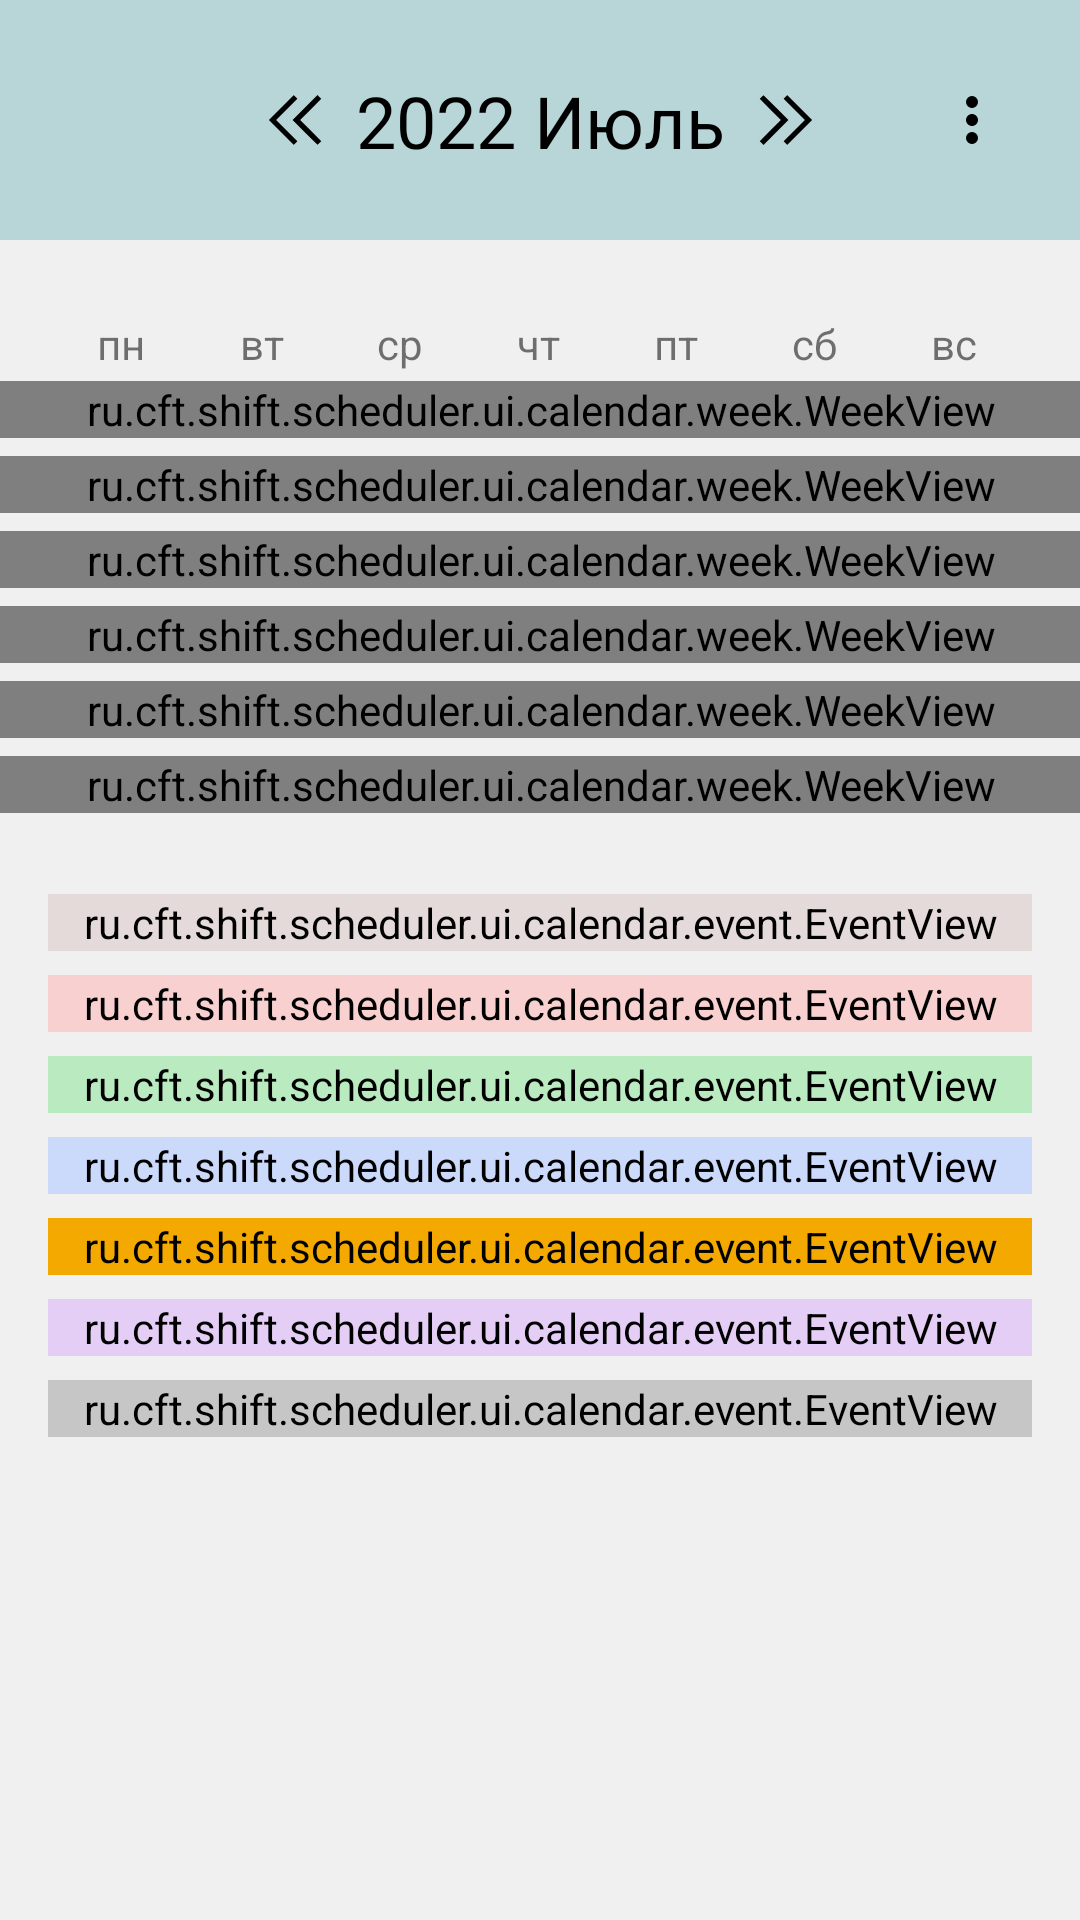

Locate icon controls on the screen. Image size 1080×1920, boxes as (x1, y1, x2, y2).
left two arrows: (269, 95, 321, 145)
right two arrows: (760, 95, 812, 145)
